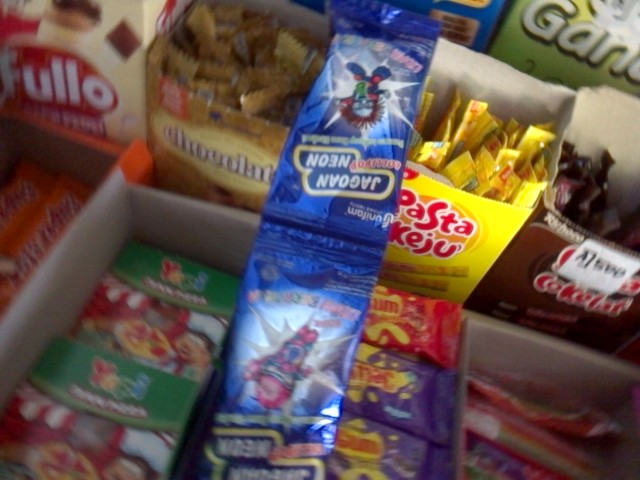jagoan neon: (259, 1, 440, 261), (201, 230, 379, 479)
